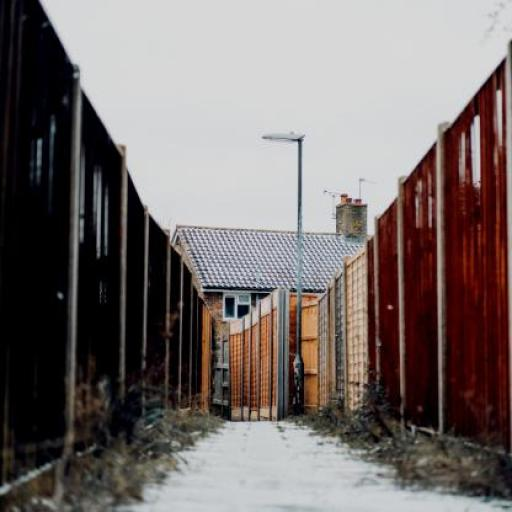street light: (262, 130, 310, 421)
